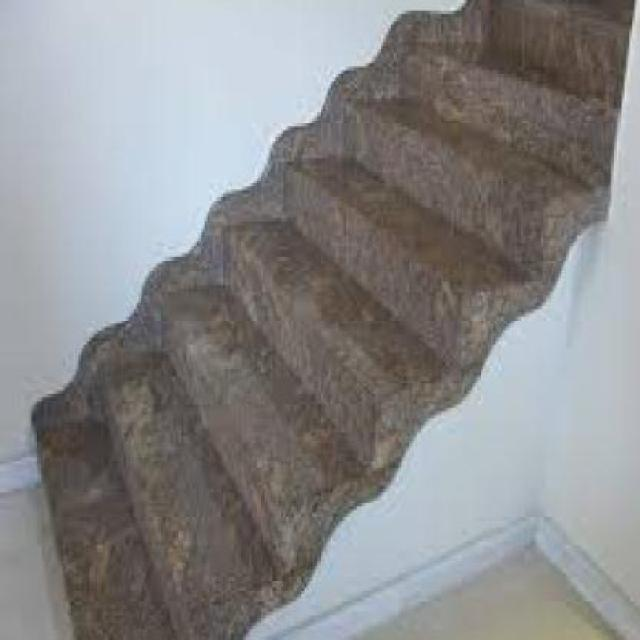stair: (42, 0, 638, 637)
